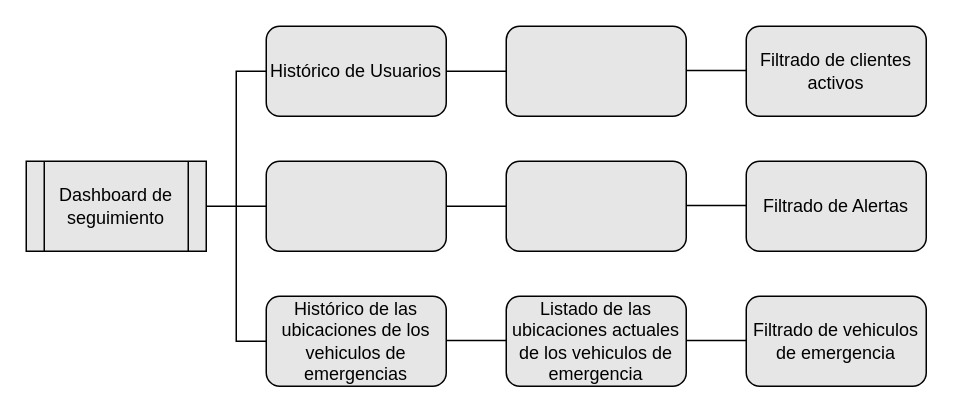
The diagram is 953 pixels wide and 413 high, and some of its shapes have lost their labels. The shapes that lost their labels are listed below. From the top down, each one's centre as x and y in pixels, then its label:
At point 595,70: "Listado de Usuarios activos".
At point 355,205: "Histórico de Alertas".
At point 595,205: "Listado de Alertas".
